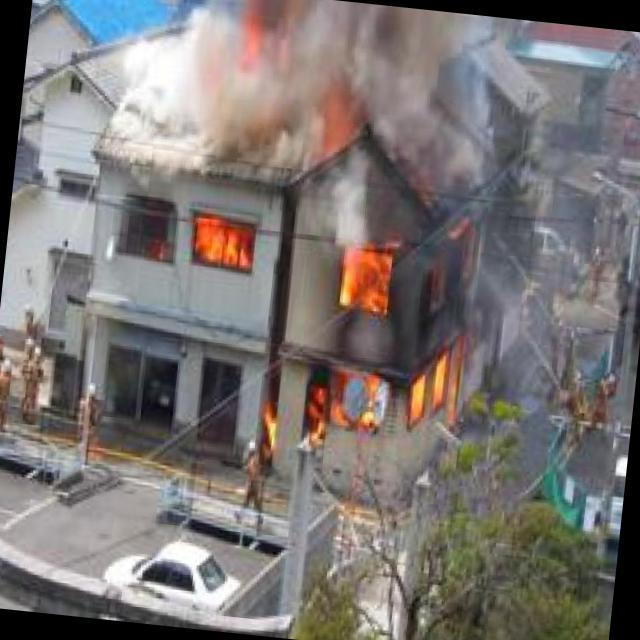Fire: (298, 224, 489, 476), (182, 207, 259, 279)
